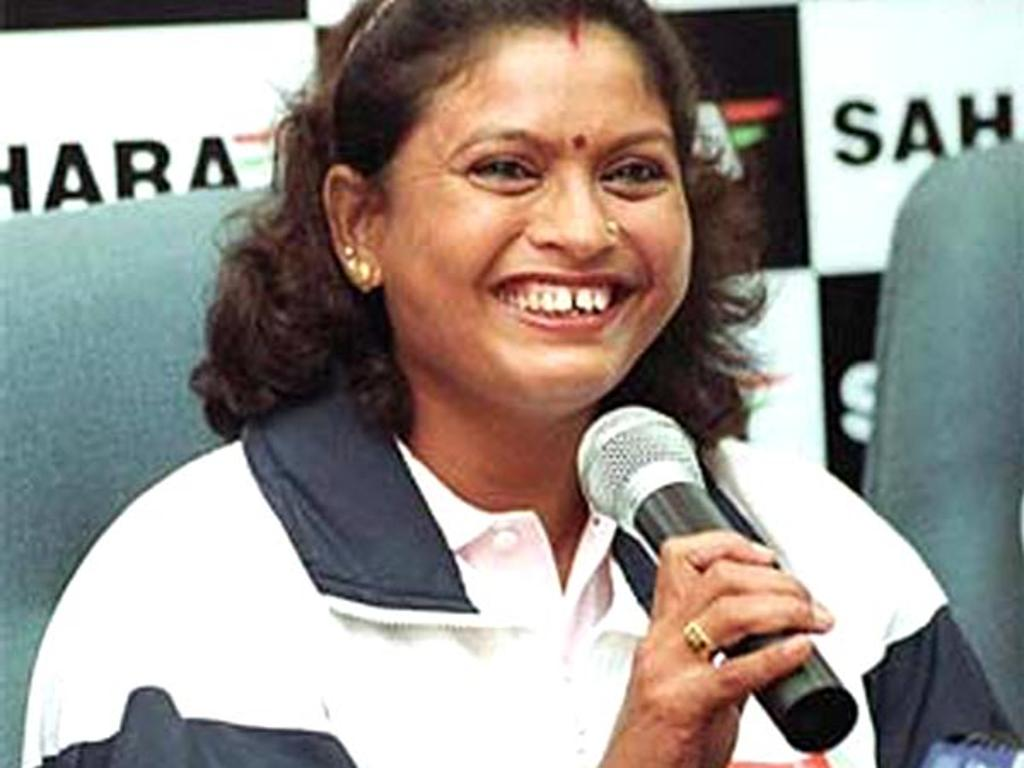face: (376, 66, 694, 404)
